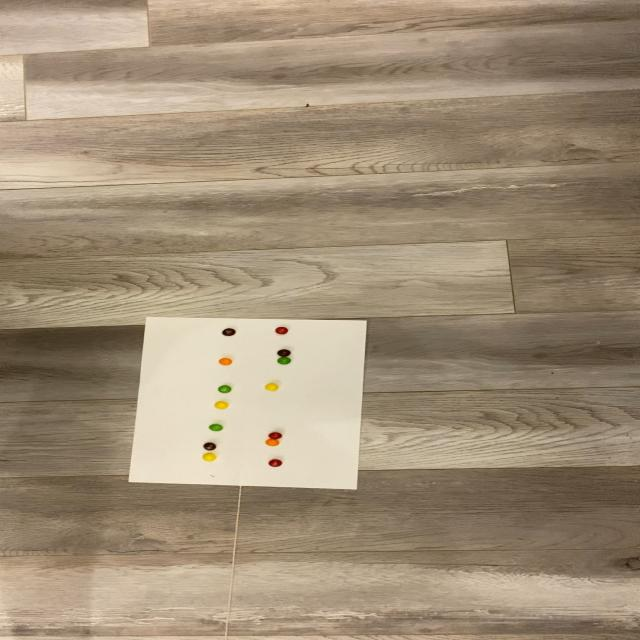smartie: (216, 385, 231, 394), (203, 441, 217, 450), (268, 431, 282, 440), (202, 453, 216, 462), (276, 358, 291, 366), (222, 329, 236, 337), (276, 349, 290, 357), (275, 327, 289, 335), (209, 424, 223, 432), (264, 383, 278, 391), (214, 401, 228, 409), (265, 439, 280, 446), (269, 460, 282, 468), (218, 358, 232, 365)
